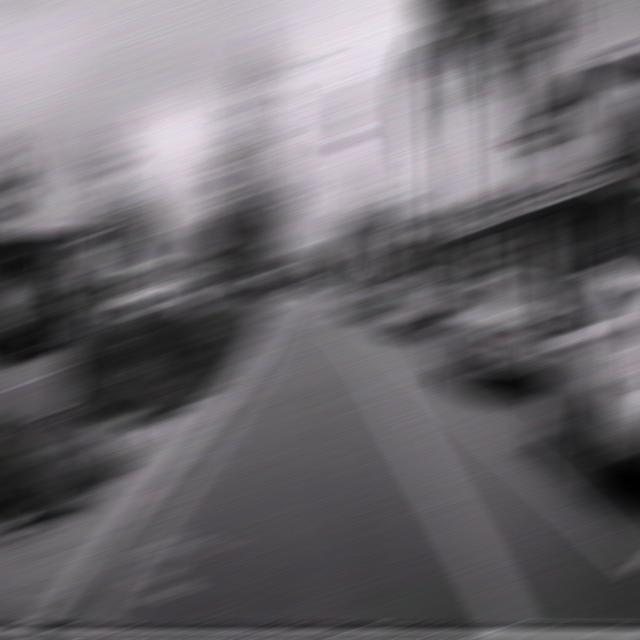pedestrianCrossing: (362, 224, 394, 255)
